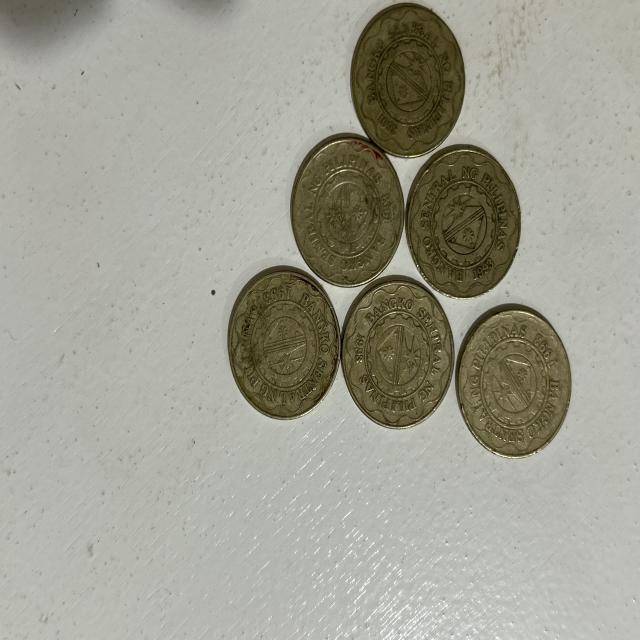5_Old_Back: (346, 5, 468, 152), (230, 270, 337, 419), (466, 307, 572, 454), (296, 137, 402, 274), (410, 152, 520, 284), (346, 287, 451, 414)
